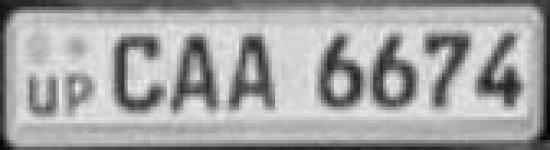4: (473, 22, 527, 117)
6: (314, 26, 368, 113), (370, 24, 419, 111)
7: (420, 24, 470, 113)
A: (226, 30, 288, 118), (170, 28, 225, 116)
C: (111, 27, 169, 114)
P: (63, 68, 100, 120)
U: (23, 71, 63, 117)
